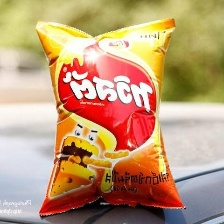snack: (30, 12, 193, 224)
